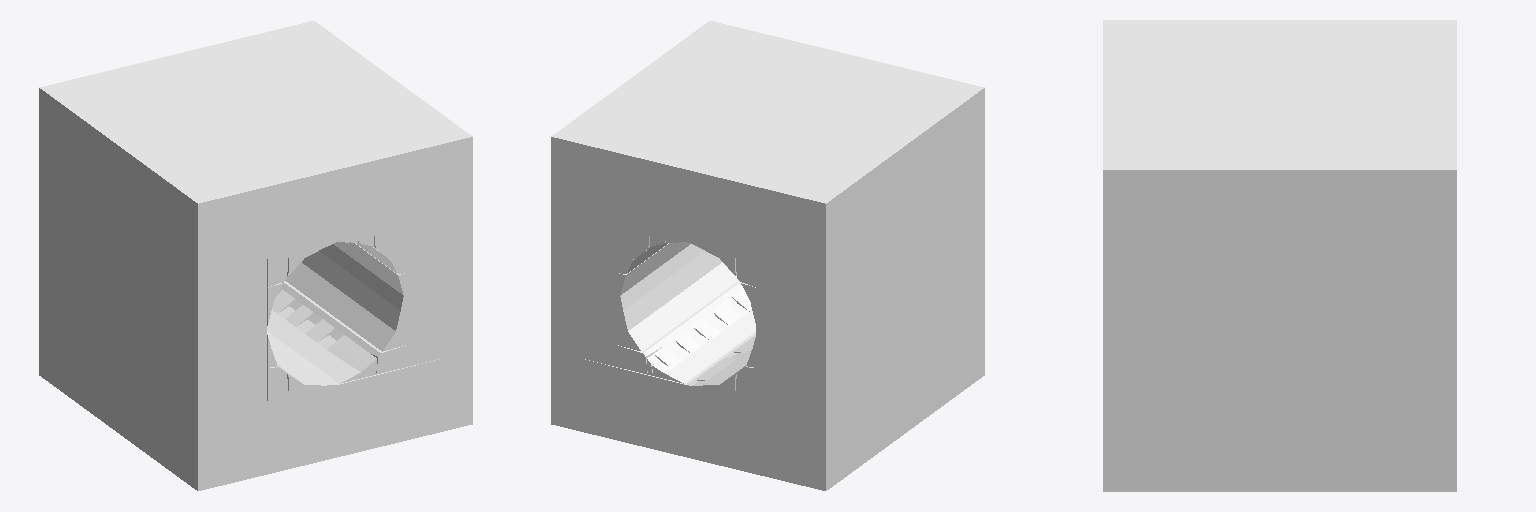
The robot description file, URDF, robot "cube_hole":
<?xml version="1.0" ?>
<robot name="cube_hole">
  <link name="baseLink">
    <contact>
      <lateral_friction value="1.0"/>
      <rolling_friction value="0.0"/>
      <contact_cfm value="0.0"/>
      <contact_erp value="1.0"/>
    </contact>
    <inertial>
      <origin rpy="0 0 0" xyz="0 0 0"/>
      <mass value="1.4"/>
      <inertia ixx="1" ixy="0" ixz="0" iyy="1" iyz="0" izz="1"/>
    </inertial>
    <visual>
      <origin rpy="0 0 0" xyz="0 0 0"/>
      <geometry>
	<!-- <mesh filename="cube_hole.obj" scale="0.5 0.5 0.5"/> -->
	<mesh filename="cube_hole_vhacd.obj" scale="0.5 0.5 0.5"/>
      </geometry>
      <material name="white">
        <color rgba="1 1 1 1"/>
      </material>
    </visual>
    <collision>
      <origin rpy="0 0 0" xyz="0 0 0"/>
      <geometry>
    	<!-- <mesh filename="cube_hole.obj" scale="0.5 0.5 0.5"/> -->
    	<mesh filename="cube_hole_vhacd.obj" scale="0.5 0.5 0.5"/>
      </geometry>
    </collision>
  </link>
</robot>

--- What the picture shows (computed from the rendered views, not written in the file) ---
3 views of the same robot in one strip: view 1: azimuth 30°, elevation 25°; view 2: azimuth 150°, elevation 25°; view 3: azimuth 270°, elevation 25° (orthographic).
Robot: cube_hole — 1 links, 0 joints (none); root link baseLink; default pose: all joints at 0.
Links seen in each view (by area): view 1: baseLink; view 2: baseLink; view 3: baseLink.
Boxes of the visible links, x1=… form: baseLink: x1=39, y1=21, x2=472, y2=490; baseLink: x1=551, y1=21, x2=984, y2=490; baseLink: x1=1103, y1=20, x2=1456, y2=491.
Bounding box of the posed robot: 1 × 1 × 1 m (x, y, z).
Meshes: 1 distinct files referenced, 1 mesh visuals loaded (1 OBJ).